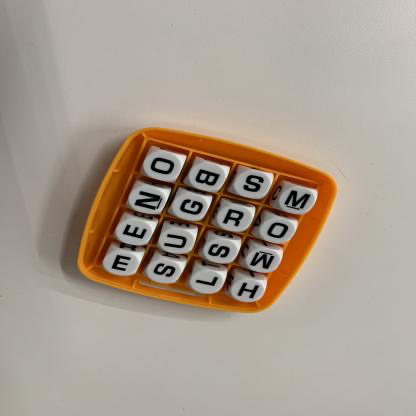b: (190, 164, 228, 192)
e: (117, 220, 153, 245), (104, 252, 140, 277)
g: (173, 194, 209, 220)
h: (232, 279, 266, 303)
l: (191, 271, 224, 295)
m: (281, 188, 316, 214), (247, 249, 282, 274)
n: (131, 188, 167, 214)
o: (145, 152, 183, 181), (260, 218, 297, 244)
r: (217, 206, 253, 232)
s: (235, 170, 272, 199), (204, 239, 238, 264), (148, 260, 182, 285)
u: (161, 229, 196, 254)
